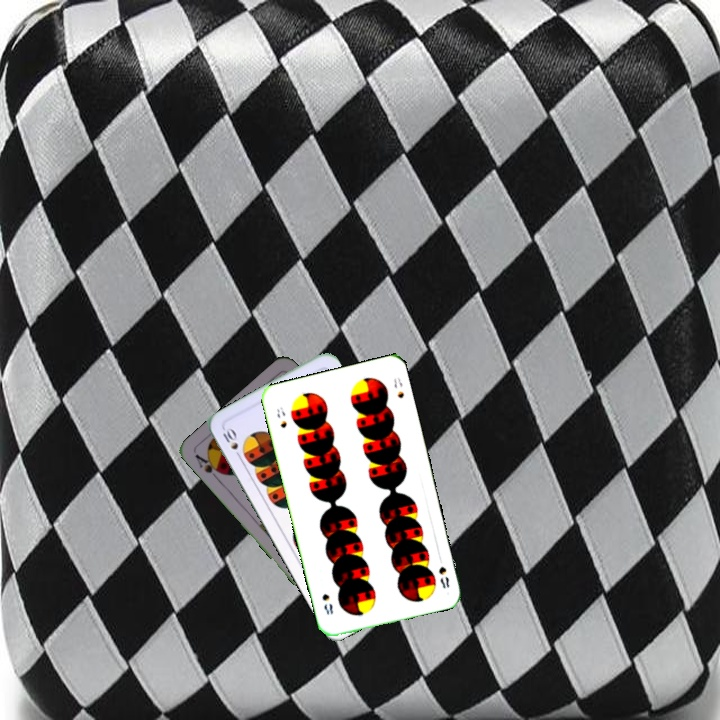S10: (219, 423, 244, 462)
S8: (434, 562, 452, 591), (273, 403, 289, 430)
SA: (191, 450, 227, 484)
